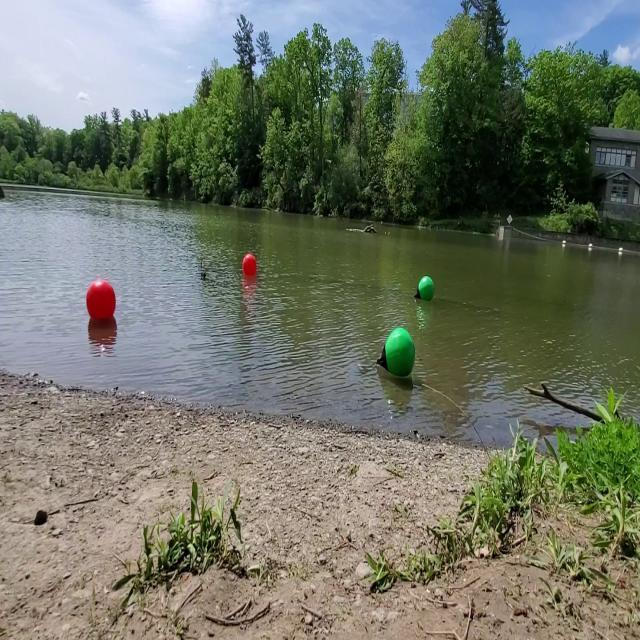buoy: (377, 326, 415, 378), (86, 279, 116, 321), (415, 276, 433, 300), (243, 255, 257, 278)
